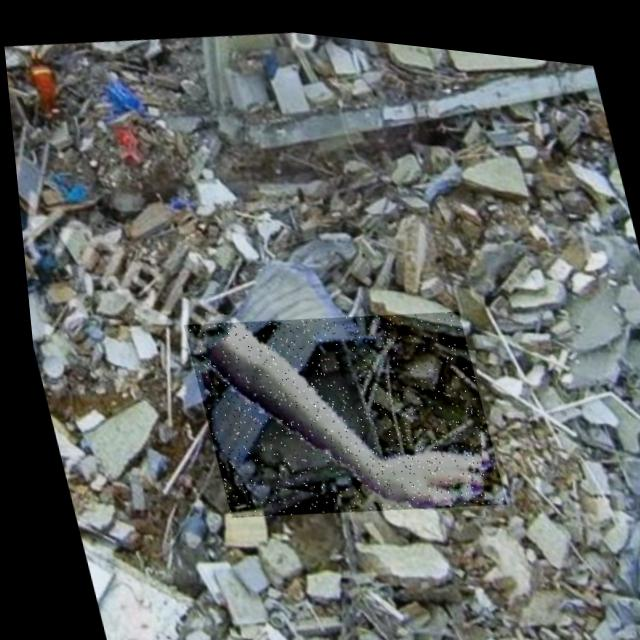Person in Rubble: (174, 277, 502, 539)
